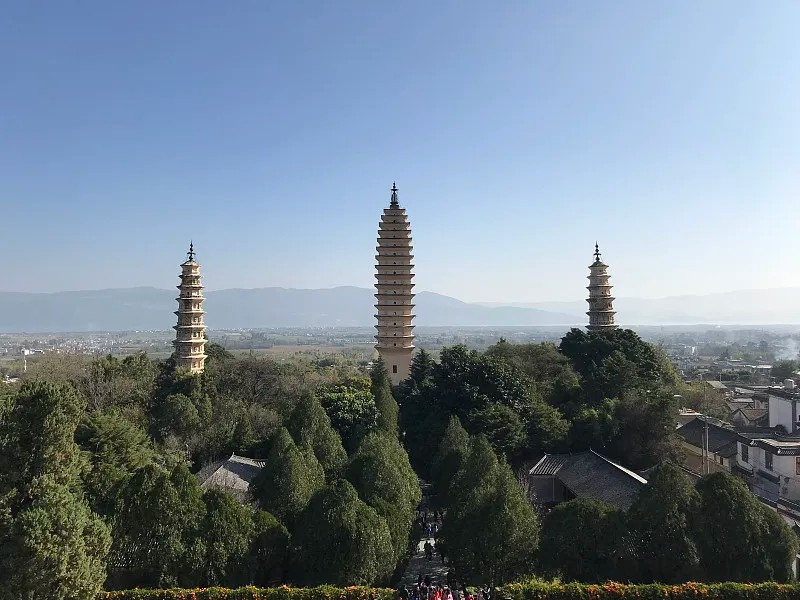ThreePagoda: (374, 181, 415, 382)
